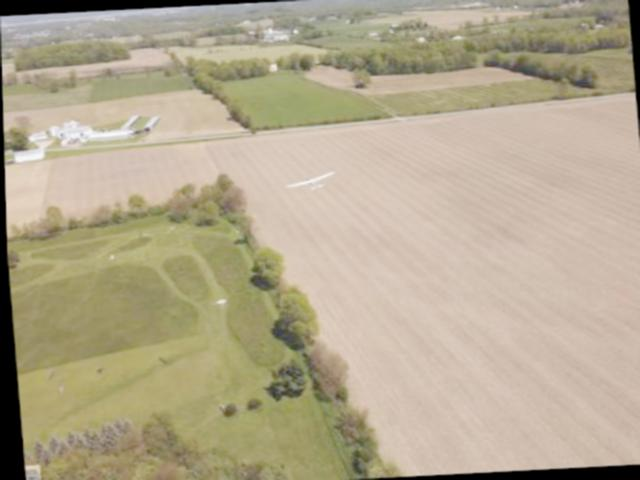uav: (280, 162, 342, 197)
